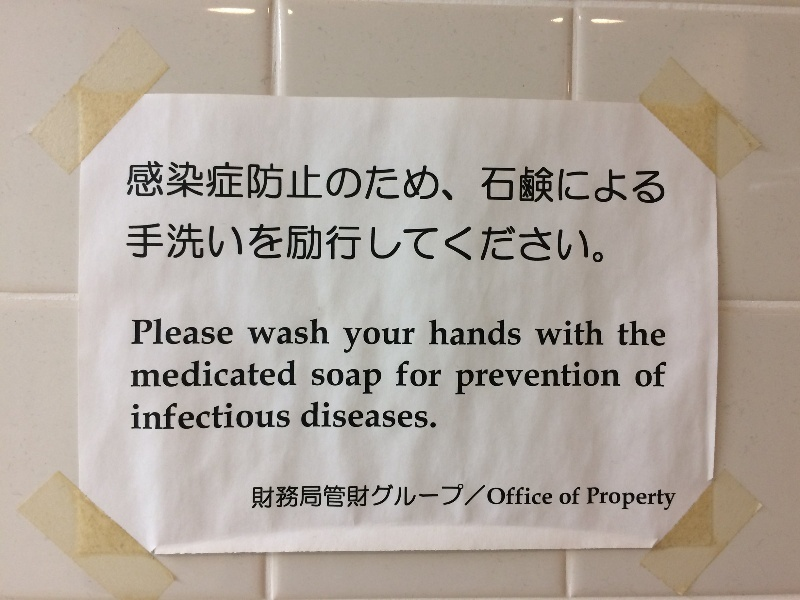text: (129, 220, 144, 265), (145, 220, 160, 265), (161, 220, 176, 265), (177, 220, 192, 265), (193, 220, 208, 265), (209, 220, 224, 265), (225, 220, 240, 265), (241, 220, 256, 265), (257, 220, 272, 265), (273, 220, 288, 265), (289, 220, 304, 265), (305, 220, 320, 265), (321, 220, 336, 265), (337, 220, 352, 265), (353, 220, 368, 265), (369, 220, 384, 265), (385, 220, 400, 265), (401, 220, 416, 265), (417, 220, 432, 265), (433, 220, 448, 265), (449, 220, 464, 265), (465, 220, 480, 265), (481, 220, 496, 265), (497, 220, 512, 265), (513, 220, 528, 265), (529, 220, 544, 265), (545, 220, 560, 265), (561, 220, 576, 265), (577, 220, 592, 265), (593, 220, 608, 265), (129, 164, 144, 208), (145, 164, 160, 208), (161, 164, 176, 208), (177, 164, 192, 208), (193, 164, 208, 208), (209, 164, 224, 208), (225, 164, 240, 208), (241, 164, 256, 208), (257, 164, 272, 208), (273, 164, 288, 208), (289, 164, 304, 208), (305, 164, 320, 208), (321, 164, 336, 208), (337, 164, 352, 208), (353, 164, 368, 208), (369, 164, 384, 208), (385, 164, 400, 208), (401, 164, 416, 208), (417, 164, 432, 208), (433, 164, 448, 208), (449, 164, 464, 208), (465, 164, 480, 208), (481, 164, 496, 208), (497, 164, 512, 208), (513, 164, 528, 208), (529, 164, 544, 208), (545, 164, 560, 208), (561, 164, 576, 208), (577, 164, 592, 208), (593, 164, 608, 208), (609, 164, 624, 208), (625, 164, 640, 208), (641, 164, 656, 208), (465, 361, 480, 401), (481, 361, 496, 401), (497, 361, 512, 401), (513, 361, 528, 401), (529, 361, 544, 401), (545, 361, 560, 401), (561, 361, 576, 401), (577, 361, 592, 401), (593, 361, 608, 401), (257, 478, 272, 517), (273, 478, 288, 517), (289, 478, 304, 517), (305, 478, 320, 517), (321, 478, 336, 517), (337, 478, 352, 517), (353, 478, 368, 517), (369, 478, 384, 517), (385, 478, 400, 517), (401, 478, 416, 517), (417, 478, 432, 517), (433, 478, 448, 517), (449, 478, 464, 517), (465, 478, 480, 517), (609, 361, 622, 401), (657, 164, 668, 208), (145, 402, 160, 434), (161, 402, 176, 434), (177, 402, 192, 434), (193, 402, 208, 434), (209, 402, 224, 434), (225, 402, 240, 434), (241, 402, 256, 434), (257, 402, 272, 434), (273, 402, 288, 434), (321, 368, 336, 400), (337, 368, 352, 400), (353, 368, 368, 400), (641, 359, 656, 390), (145, 318, 160, 348), (161, 318, 176, 348), (177, 318, 192, 348), (193, 318, 208, 348), (209, 318, 224, 348), (353, 326, 368, 356), (369, 326, 384, 356), (385, 326, 400, 356), (257, 318, 272, 347), (273, 318, 288, 347), (289, 318, 304, 347), (305, 318, 320, 347), (145, 360, 160, 389), (161, 360, 176, 389), (177, 360, 192, 389), (193, 360, 208, 389), (209, 360, 224, 389), (225, 360, 240, 389), (241, 360, 256, 389), (257, 360, 272, 389), (273, 360, 288, 389), (401, 361, 416, 390), (417, 361, 432, 390), (401, 326, 415, 356), (433, 320, 448, 348), (449, 320, 464, 348), (465, 320, 480, 348), (481, 320, 496, 348), (497, 320, 512, 348), (545, 320, 560, 348), (561, 320, 576, 348), (577, 320, 592, 348), (305, 403, 320, 431), (321, 403, 336, 431), (337, 403, 352, 431), (353, 403, 368, 431), (369, 403, 384, 431), (385, 403, 400, 431), (401, 403, 416, 431), (417, 403, 432, 431), (369, 368, 382, 400), (130, 360, 144, 389), (593, 486, 608, 513), (609, 486, 624, 513), (625, 486, 640, 513), (641, 486, 656, 513), (657, 486, 672, 513), (657, 359, 670, 390), (625, 321, 640, 347), (641, 321, 656, 347), (132, 318, 144, 348), (497, 486, 512, 510), (513, 486, 528, 510), (529, 486, 544, 510), (134, 402, 144, 434), (456, 361, 464, 401), (561, 486, 576, 507), (593, 320, 604, 348), (342, 326, 352, 356), (657, 321, 668, 347), (321, 318, 330, 347), (433, 361, 442, 390), (513, 320, 522, 348), (535, 320, 544, 348), (225, 318, 233, 348), (481, 478, 487, 517), (248, 318, 256, 347), (289, 360, 297, 389), (313, 368, 320, 400), (545, 486, 554, 510), (251, 478, 256, 517), (489, 486, 496, 510), (618, 321, 624, 347), (577, 486, 584, 507), (433, 403, 438, 431), (428, 320, 432, 348), (588, 486, 592, 513), (673, 486, 677, 513), (637, 359, 640, 390), (126, 164, 128, 208), (397, 361, 400, 390), (289, 402, 291, 434), (302, 403, 304, 431), (127, 220, 128, 265), (609, 220, 610, 265)
